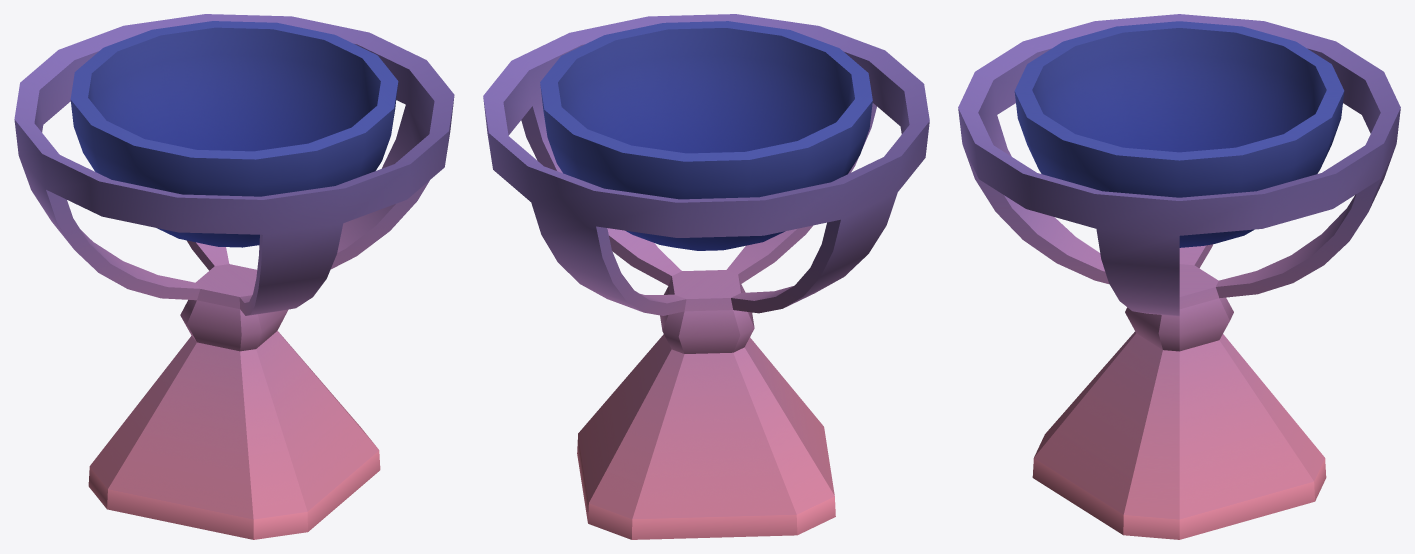
File: Checkpoint.fbx
3 renders of one model, left to right at view 1: azimuth 30°, elevation 25°; view 2: azimuth 150°, elevation 25°; view 3: azimuth 270°, elevation 25°, orthographic.
Parts seen in each view (by area): view 1: Checkpoint; view 2: Checkpoint; view 3: Checkpoint.
Boxes of the visible parts, left/top/right/bottom form: Checkpoint: left=14, top=14, right=454, bottom=539; Checkpoint: left=483, top=14, right=929, bottom=539; Checkpoint: left=958, top=14, right=1400, bottom=539.
Size of the model in its own units: 101 by 97.78 by 101.
Materials: 1 (1 with a texture image).
